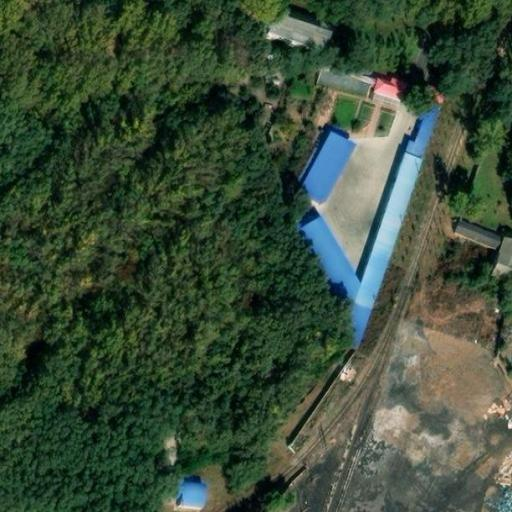building: (285, 137, 421, 355), (294, 137, 349, 206), (264, 3, 334, 53), (316, 62, 372, 98), (451, 214, 503, 249), (366, 74, 406, 106), (175, 481, 204, 509)
